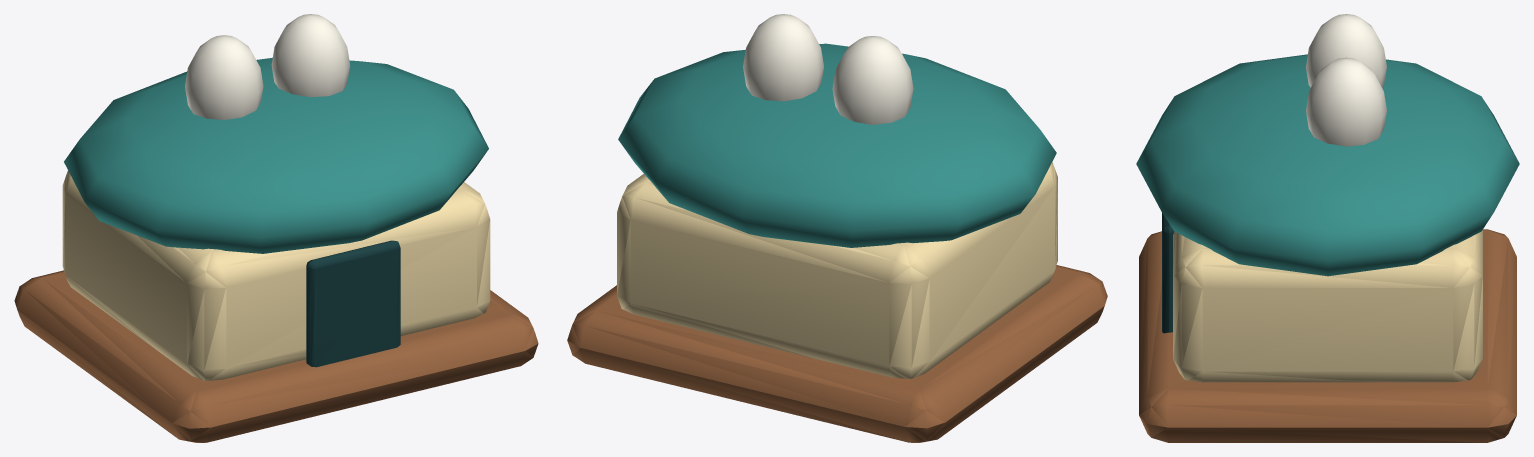
The model's file is DW_Hatchery.fbx.
3 renders of one model, left to right at view 1: azimuth 30°, elevation 25°; view 2: azimuth 150°, elevation 25°; view 3: azimuth 270°, elevation 25°, orthographic. The views are drawn at different scales.
Visible parts, largest first — view 1: Hatchery; view 2: Hatchery; view 3: Hatchery.
Part boxes in pixels (box(x1,y1,x2,y2)): Hatchery: box(14, 14, 538, 442); Hatchery: box(567, 14, 1107, 442); Hatchery: box(1136, 14, 1519, 442).
Bounding box in the file's own units: 2.48 × 1.94 × 2.08.
